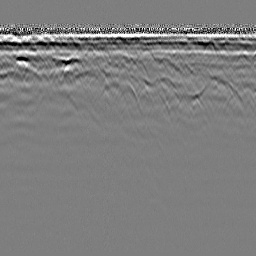cavity: (114, 75, 141, 110)
